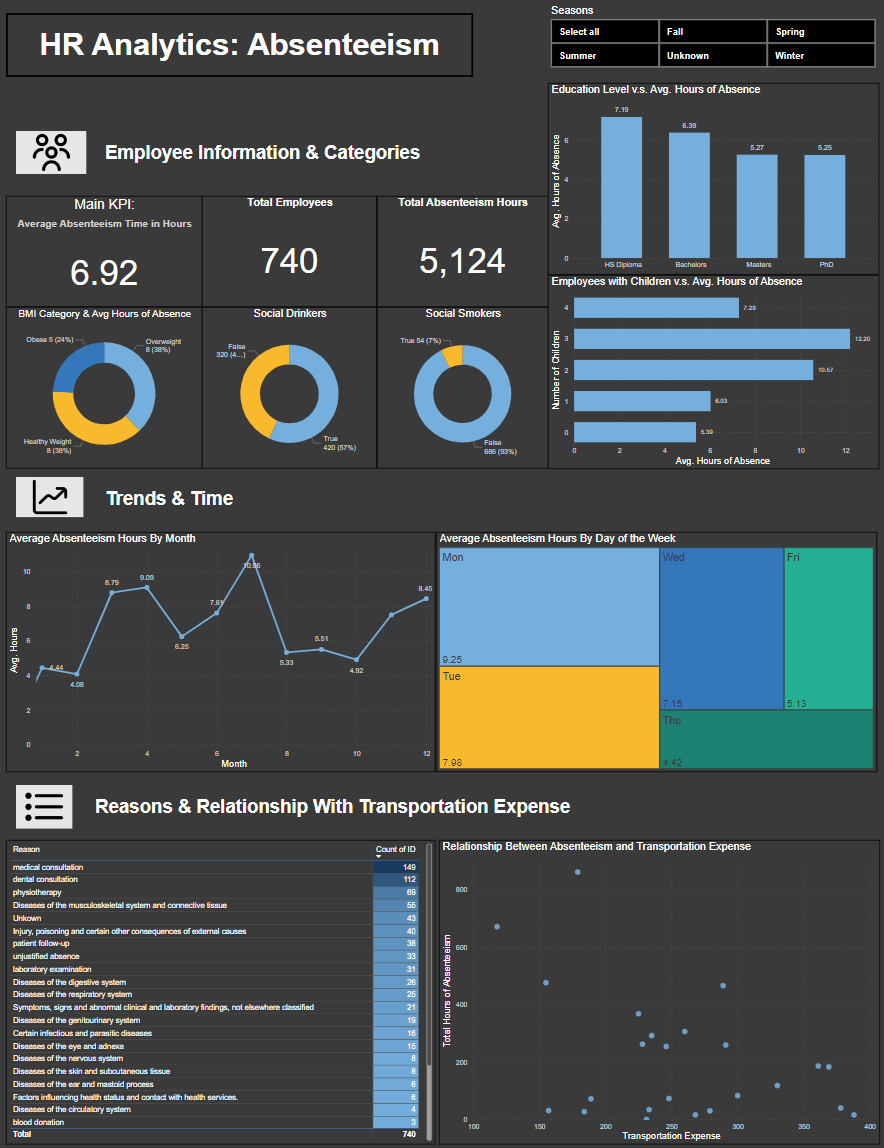

The dashboard page shown, as its layout file describes it:
{"tool":"powerbi","page":{"name":"Page 1","canvas":[1600,2000],"ordinal":0},"visuals":[{"type":"card","title":"Main KPI:","fields":{"Values":["Avg(Query2.Absenteeism_time_in_hours)"]},"box":[15.3,353.1,337.8,191.2],"z":0},{"type":"columnChart","title":"Education Level v.s. Avg. Hours of Absence","fields":{"Category":["Query2.Education_Level"],"Y":["Avg(Query2.Absenteeism_time_in_hours)"]},"box":[948.5,158.1,569.9,330.2],"z":1000},{"type":"donutChart","title":"BMI Category & Avg Hours of Absence","fields":{"Category":["Query2.BMI_Categeory"],"Y":["Avg(Query2.Absenteeism_time_in_hours)"]},"box":[15.3,544.4,337.8,277.9],"z":2000},{"type":"barChart","title":"Employees with Children v.s. Avg. Hours of Absence","fields":{"Category":["Query2.Children"],"Y":["Avg(Query2.Absenteeism_time_in_hours)"]},"box":[948.5,488.3,569.9,334],"z":3000},{"type":"donutChart","title":"Social Drinkers","fields":{"Y":["CountNonNull(Query2.ID)"],"Category":["Query2.Social_drinker"]},"box":[353.1,544.4,300.9,277.9],"z":4000},{"type":"donutChart","title":"Social Smokers","fields":{"Category":["Query2.Social_smoker"],"Y":["CountNonNull(Query2.ID)"]},"box":[654,544.4,294.5,277.9],"z":5000},{"type":"lineChart","title":"Average Absenteeism Hours By Month","fields":{"Category":["Query2.Month_of_absence"],"Y":["Avg(Query2.Absenteeism_time_in_hours)"]},"box":[15.3,932,739.4,413.1],"z":6000},{"type":"treemap","title":"Average Absenteeism Hours By Day of the Week","fields":{"Group":["Query2.Day_of_Week"],"Values":["Avg(Query2.Absenteeism_time_in_hours)"]},"box":[754.7,932,758.6,413.1],"z":7000},{"type":"tableEx","fields":{"Values":["Query2.Reason","CountNonNull(Query2.ID)"]},"box":[15.3,1461,739.4,524],"z":8000},{"type":"scatterChart","title":"Relationship Between Absenteeism and Transportation Expense","fields":{"X":["Query2.Transportation_expense"],"Y":["Sum(Query2.Absenteeism_time_in_hours)"]},"box":[761.1,1461,758.6,524],"z":9000},{"type":"card","title":"Total Employees","fields":{"Values":["CountNonNull(Query2.ID)"]},"box":[353.1,353.1,300.9,191.2],"z":10000},{"type":"card","title":"Total Absenteeism Hours","fields":{"Values":["Sum(Query2.Absenteeism_time_in_hours)"]},"box":[654,353.1,294.5,191.2],"z":11000},{"type":"advancedSlicerVisual","title":"Seasons","fields":{"Values":["Query2.Season_Names"]},"box":[947.9,22.1,571.1,114.8],"z":12000},{"type":"textbox","box":[15.3,38.2,804.5,109.6],"z":13000},{"type":"textbox","box":[149.7,1366.6,855.4,86.1],"z":14000},{"type":"image","box":[31.9,241,121.1,73.9],"z":15000},{"type":"textbox","box":[173.4,836.3,244.8,68.8],"z":16000},{"type":"image","box":[31.9,836.3,116,68.8],"z":17000},{"type":"textbox","box":[173.4,241,566.1,85.4],"z":18000},{"type":"image","box":[31.9,1366.7,96.9,75.2],"z":19000}]}

Visuals, with their boxes on the page's 1600x2000 design canvas (x1, y1, x2, y2). These are canvas units, not pixel positions in the 884x1148 screenshot, which may show the page scaled, cropped or inside an application window:
"Main KPI:" card: {"left": 15, "top": 353, "right": 353, "bottom": 544}
"Education Level v.s. Avg. Hours of Absence" columnChart: {"left": 948, "top": 158, "right": 1518, "bottom": 488}
"BMI Category & Avg Hours of Absence" donutChart: {"left": 15, "top": 544, "right": 353, "bottom": 822}
"Employees with Children v.s. Avg. Hours of Absence" barChart: {"left": 948, "top": 488, "right": 1518, "bottom": 822}
"Social Drinkers" donutChart: {"left": 353, "top": 544, "right": 654, "bottom": 822}
"Social Smokers" donutChart: {"left": 654, "top": 544, "right": 948, "bottom": 822}
"Average Absenteeism Hours By Month" lineChart: {"left": 15, "top": 932, "right": 755, "bottom": 1345}
"Average Absenteeism Hours By Day of the Week" treemap: {"left": 755, "top": 932, "right": 1513, "bottom": 1345}
tableEx - Query2.Reason x CountNonNull(Query2.ID): {"left": 15, "top": 1461, "right": 755, "bottom": 1985}
"Relationship Between Absenteeism and Transportation Expense" scatterChart: {"left": 761, "top": 1461, "right": 1520, "bottom": 1985}
"Total Employees" card: {"left": 353, "top": 353, "right": 654, "bottom": 544}
"Total Absenteeism Hours" card: {"left": 654, "top": 353, "right": 948, "bottom": 544}
"Seasons" advancedSlicerVisual: {"left": 948, "top": 22, "right": 1519, "bottom": 137}
textbox: {"left": 15, "top": 38, "right": 820, "bottom": 148}
textbox: {"left": 150, "top": 1367, "right": 1005, "bottom": 1453}
image: {"left": 32, "top": 241, "right": 153, "bottom": 315}
textbox: {"left": 173, "top": 836, "right": 418, "bottom": 905}
image: {"left": 32, "top": 836, "right": 148, "bottom": 905}
textbox: {"left": 173, "top": 241, "right": 740, "bottom": 326}
image: {"left": 32, "top": 1367, "right": 129, "bottom": 1442}
